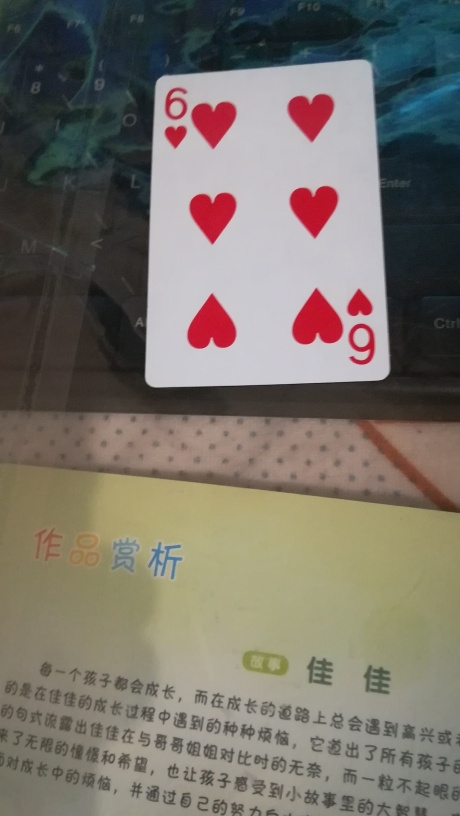hx 6: (146, 61, 392, 385)
